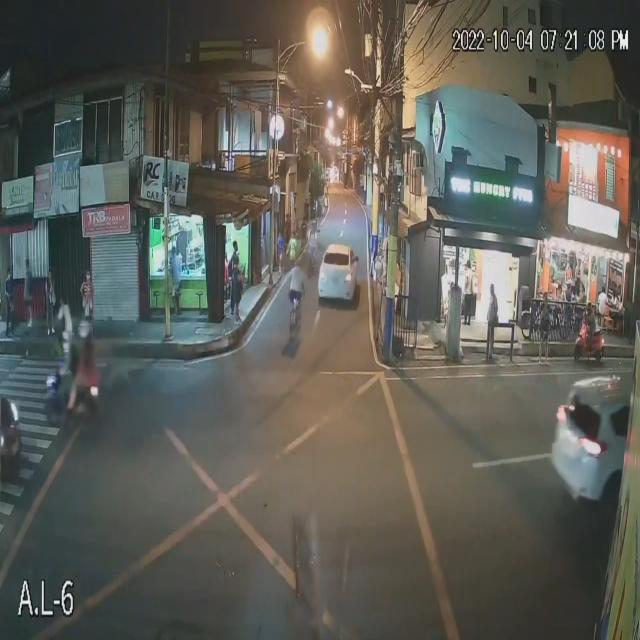Full-Faced: (78, 317, 99, 348), (583, 300, 596, 320)
Not-Wearing-Helmet: (57, 290, 70, 312)
